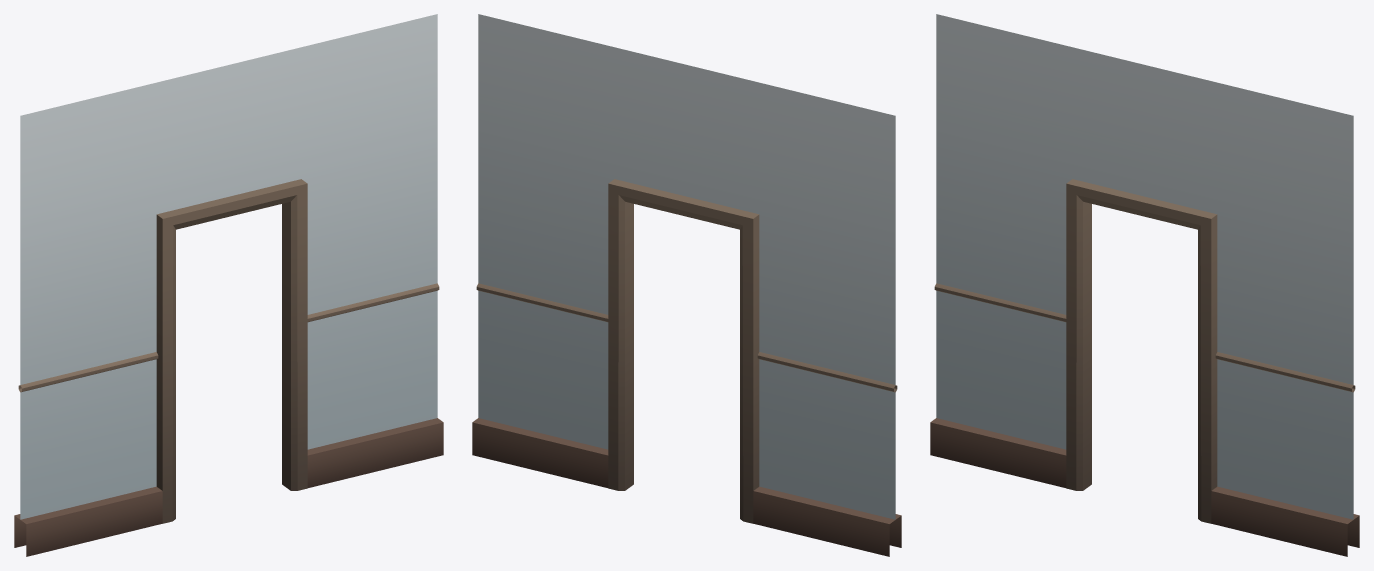
Rendered from Wall_frame.fbx.
3 views of the same model, side by side, from view 1: azimuth 30°, elevation 25°; view 2: azimuth 150°, elevation 25°; view 3: azimuth 330°, elevation 25° (orthographic).
Visible parts, largest first — view 1: Wall_frame; view 2: Wall_frame; view 3: Wall_frame.
Boxes of the visible parts, <box> form: Wall_frame: <box>14,14,443,556</box>; Wall_frame: <box>472,14,901,556</box>; Wall_frame: <box>930,14,1359,556</box>.
Size of the model in its own units: 300 by 300 by 15.49.
